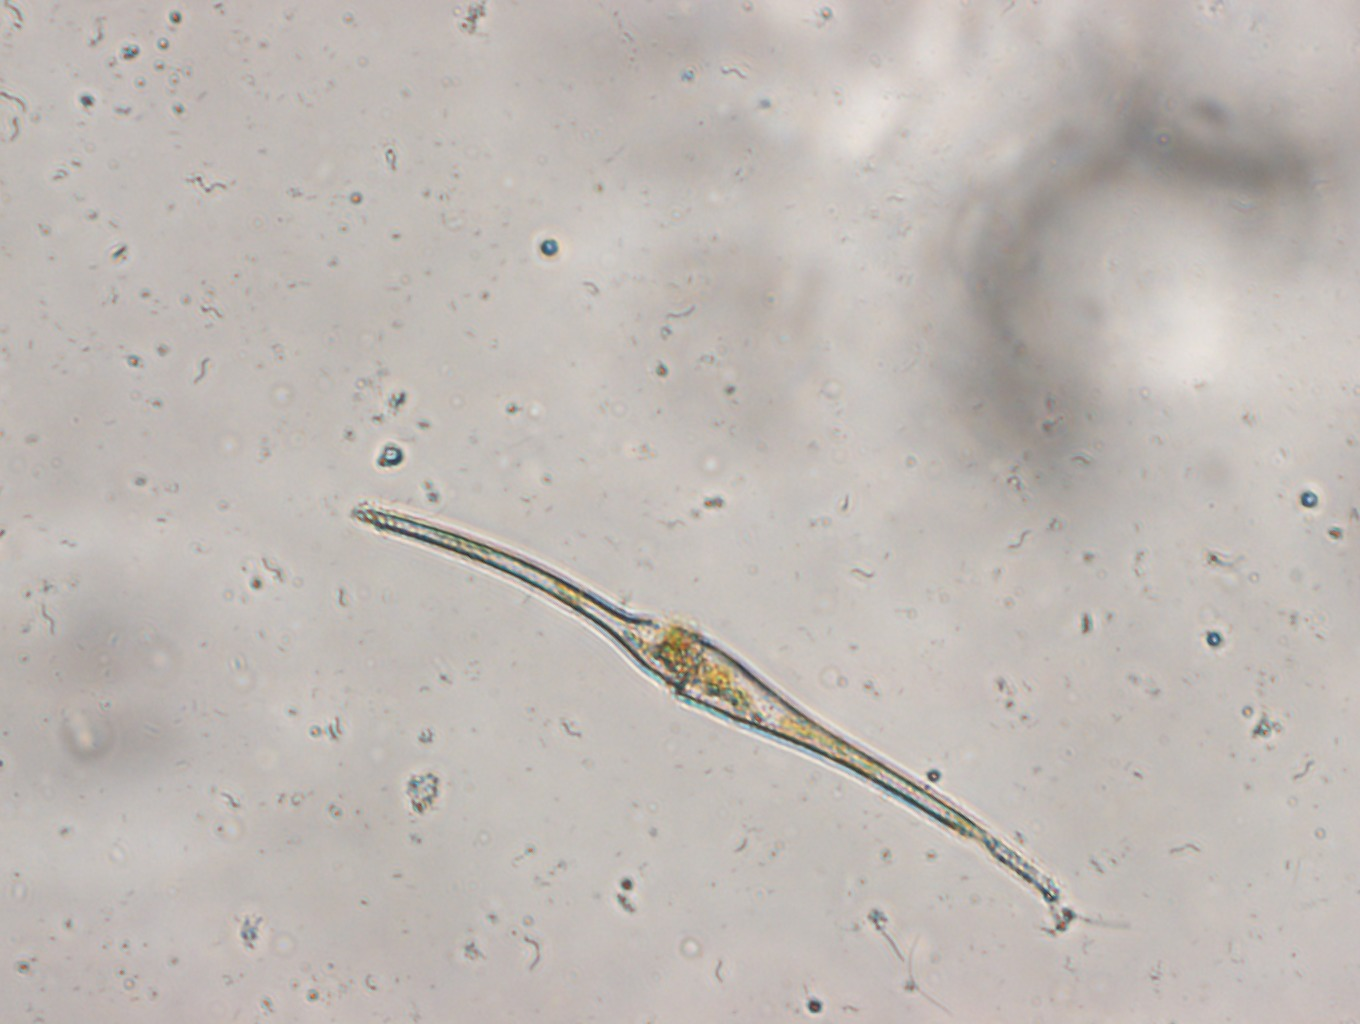ceratium fusus: (350, 504, 1066, 901)
